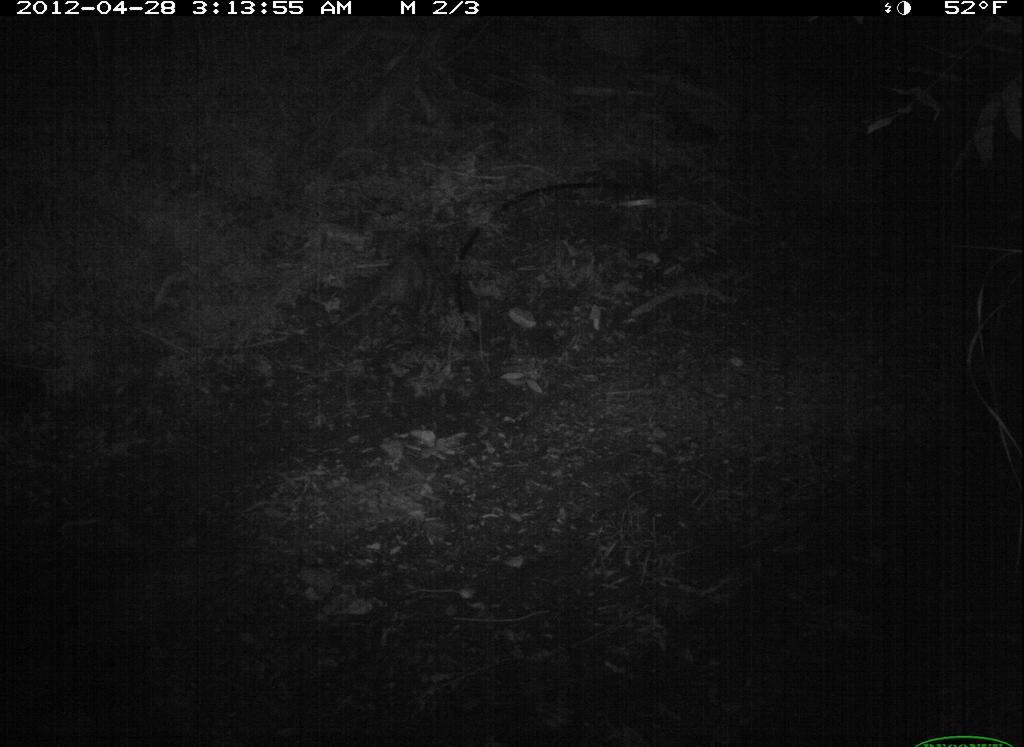opossum: (326, 228, 451, 358)
